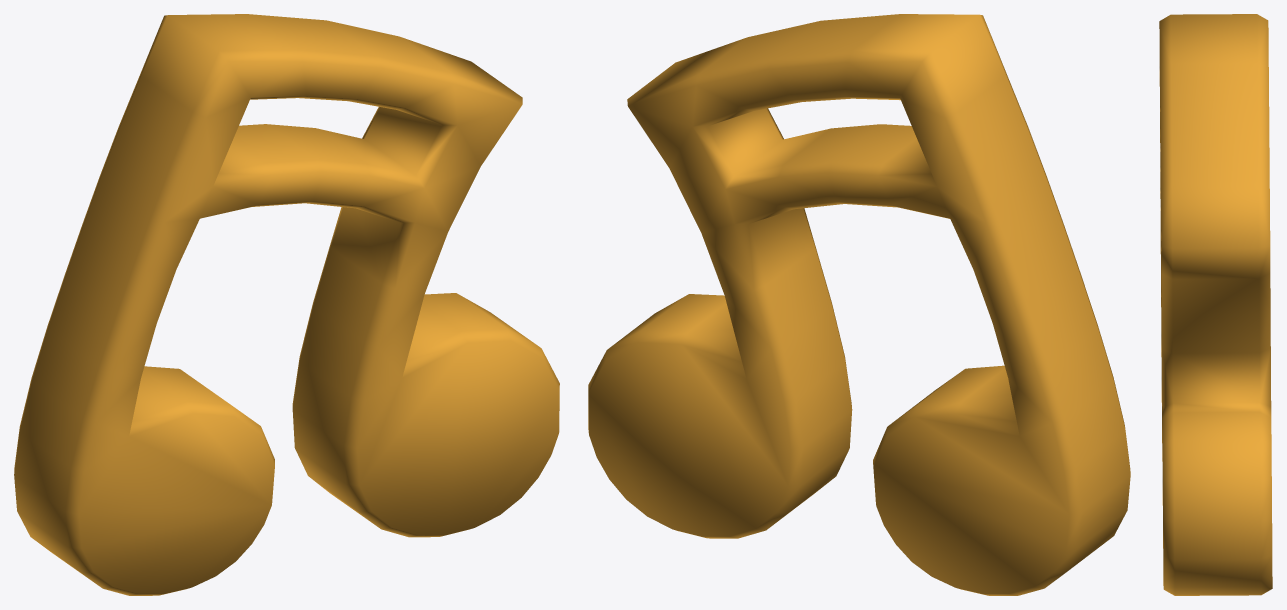
Rendered from music-note.glb.
3 renders of one model, left to right at view 1: azimuth 30°, elevation 25°; view 2: azimuth 150°, elevation 25°; view 3: azimuth 270°, elevation 25°, orthographic. The views are drawn at different scales.
Visible parts, largest first — view 1: Object_2; view 2: Object_2; view 3: Object_2.
Part boxes in pixels (left/top/right/bottom): Object_2: left=14, top=14, right=559, bottom=595; Object_2: left=588, top=14, right=1130, bottom=595; Object_2: left=1159, top=14, right=1272, bottom=595.
Size of the model in its own units: 0.8673 by 0.9037 by 0.1972.
